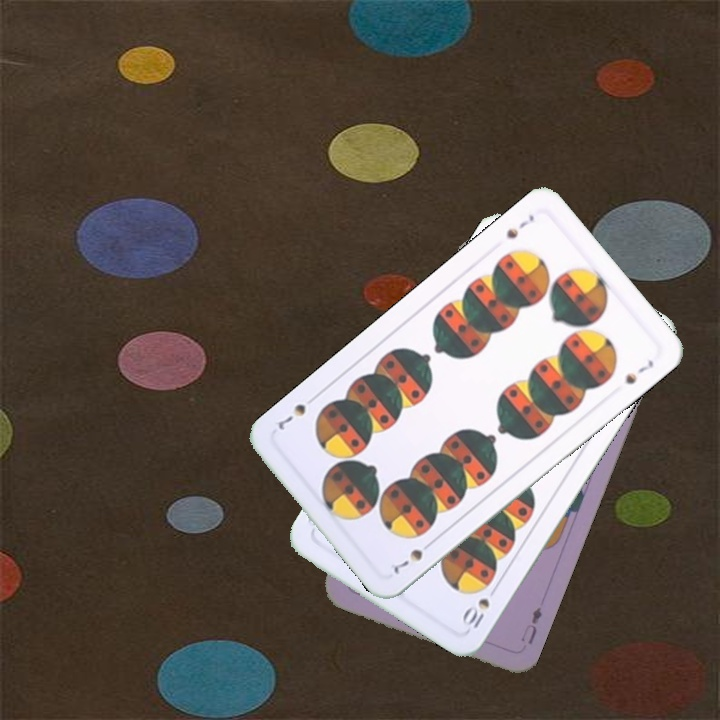EU: (517, 603, 545, 647)
S10: (458, 581, 501, 633)
S7: (389, 536, 437, 577), (502, 210, 537, 242)
